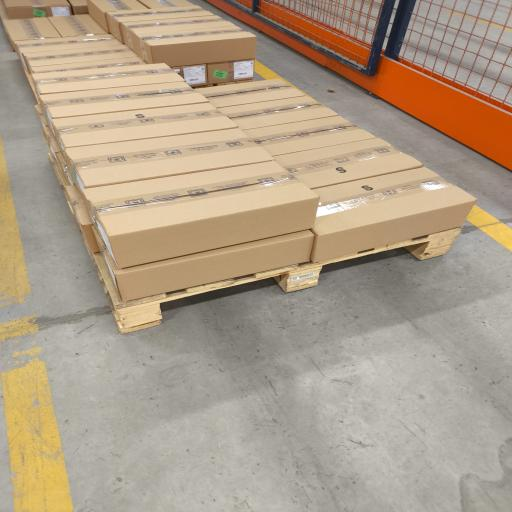pallet: (91, 228, 461, 333), (275, 228, 461, 292)
